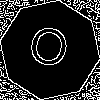O: (25, 25, 71, 77)
